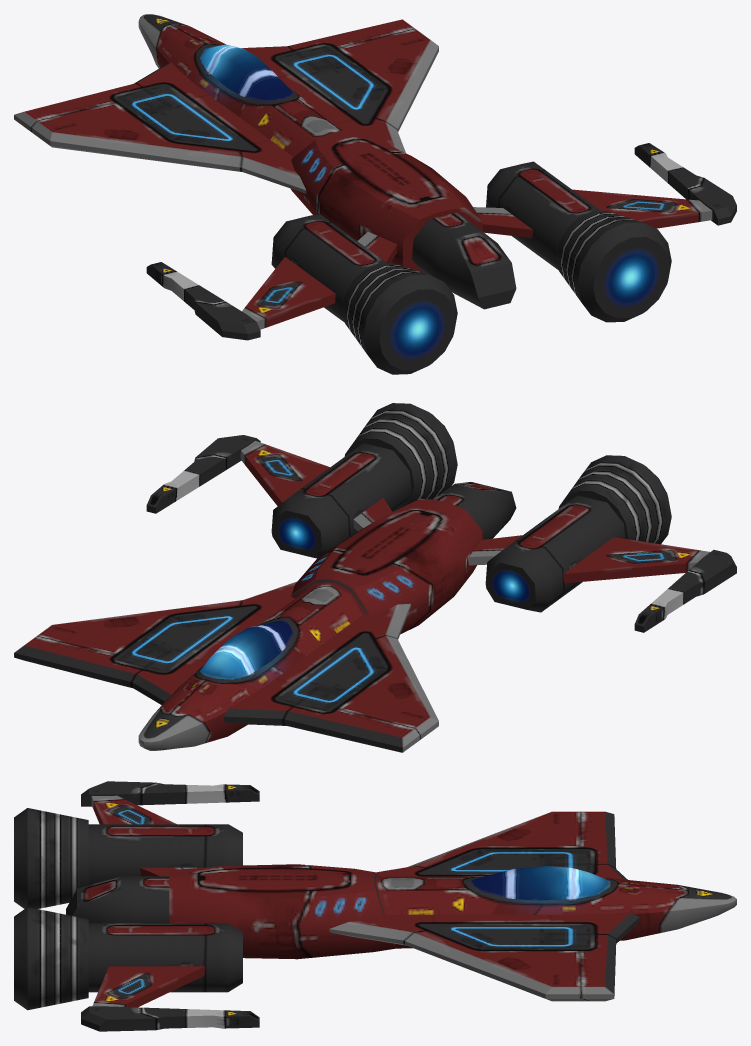
Rendered from defender2.gltf.
3 renders of one model, top to bottom at view 1: azimuth 30°, elevation 25°; view 2: azimuth 150°, elevation 25°; view 3: azimuth 270°, elevation 25°, orthographic. The views are drawn at different scales.
Visible parts, largest first — view 1: defender2; view 2: defender2; view 3: defender2.
Boxes of the visible parts, x1=… form: defender2: x1=14, y1=14, x2=736, y2=374; defender2: x1=14, y1=403, x2=736, y2=752; defender2: x1=14, y1=781, x2=736, y2=1031.
Size of the model in its own units: 9.61 by 1.76 by 12.31.
1 material, 1 textured.
